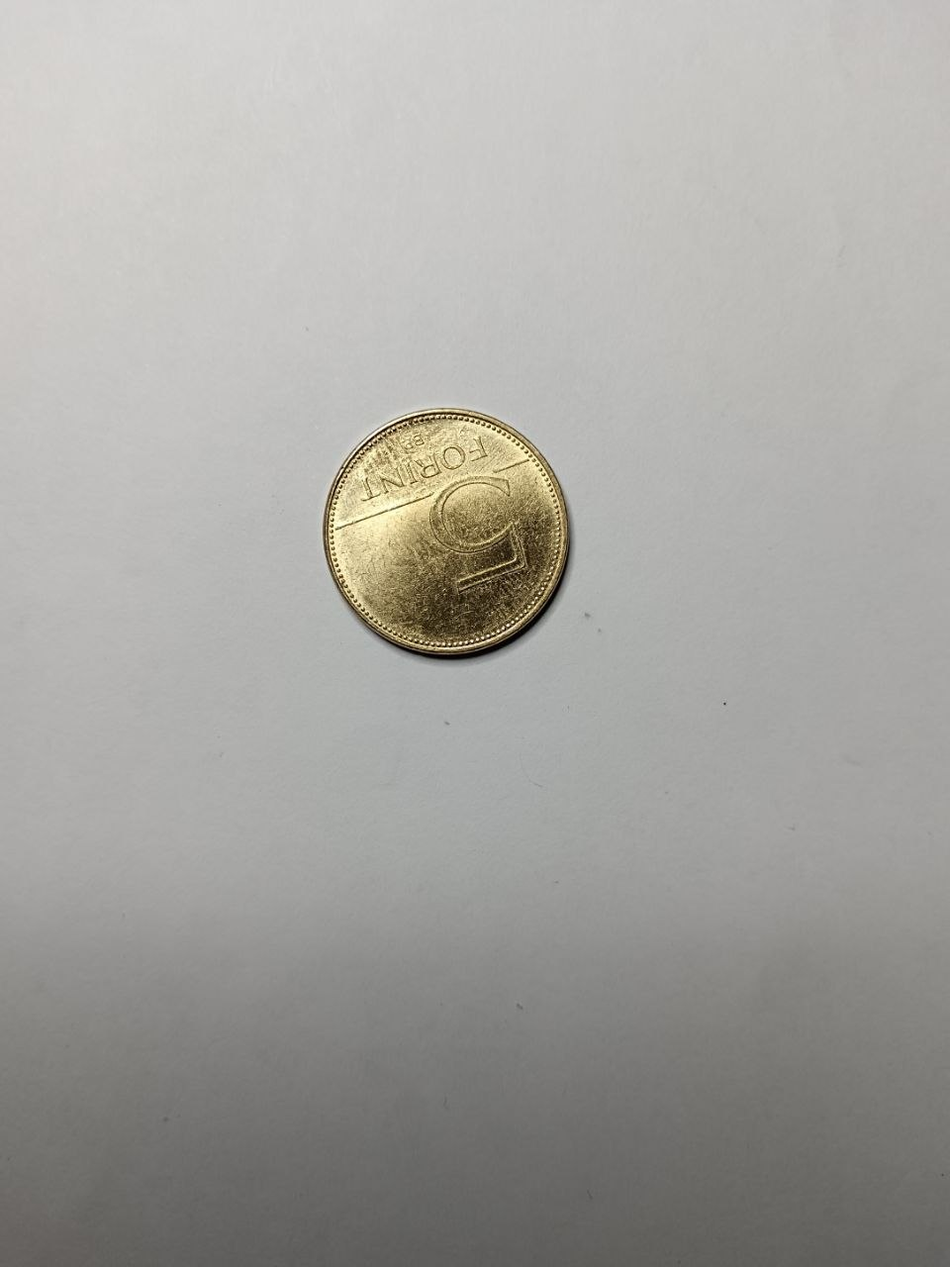5ft: (327, 407, 571, 655)
